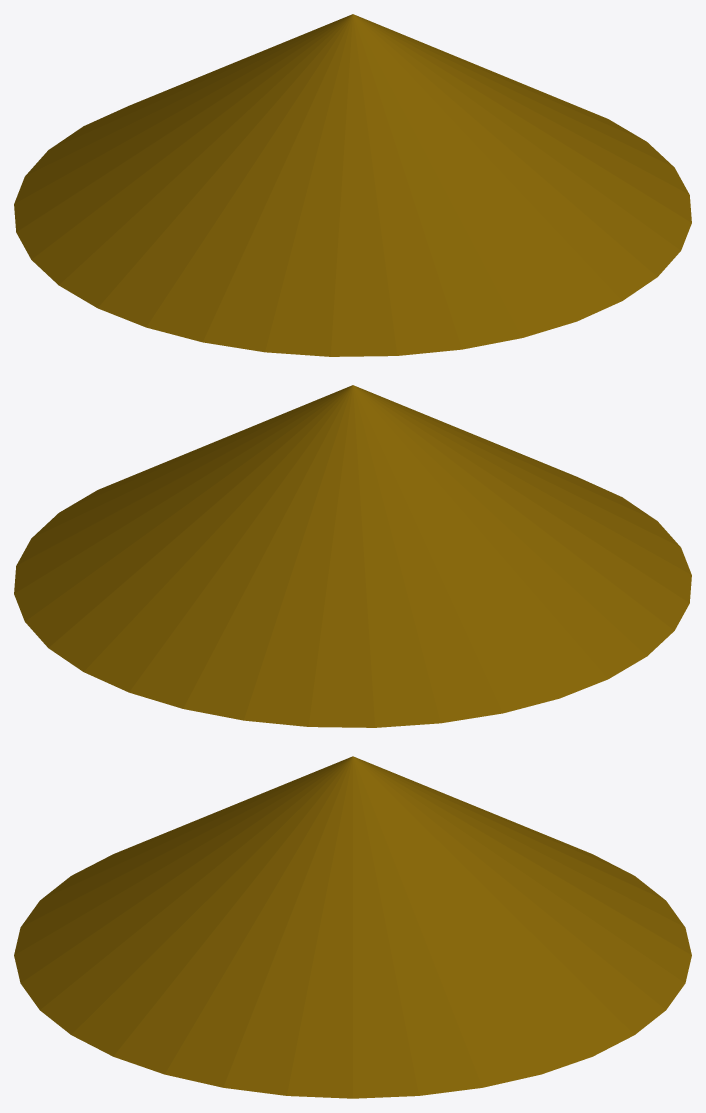
Rendered from ricehat.glb.
The picture shows the model from 3 angles, top to bottom: view 1: azimuth 30°, elevation 25°; view 2: azimuth 150°, elevation 25°; view 3: azimuth 270°, elevation 25°; orthographic projection.
Visible parts, largest first — view 1: Cone; view 2: Cone; view 3: Cone.
Boxes of the visible parts, bbox=[...] form: Cone: bbox=[14, 14, 691, 356]; Cone: bbox=[14, 385, 691, 727]; Cone: bbox=[14, 756, 691, 1098].
Bounding box in the file's own units: 2 × 0.6484 × 2.
